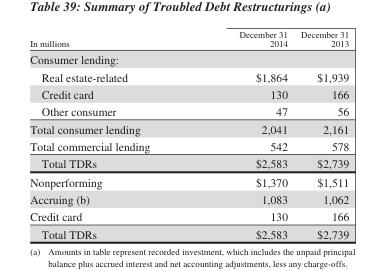table: (29, 28, 348, 240)
table column: (29, 28, 193, 240), (193, 28, 293, 240), (293, 28, 348, 240)
table column header: (29, 28, 348, 50)
table projected row header: (29, 50, 348, 67)
table row: (29, 28, 348, 50), (29, 67, 348, 85), (29, 119, 348, 137), (29, 154, 348, 172), (29, 172, 348, 190), (29, 207, 348, 225), (29, 50, 348, 67), (29, 85, 348, 102), (29, 102, 348, 119), (29, 137, 348, 154), (29, 190, 348, 207), (29, 225, 348, 240)
